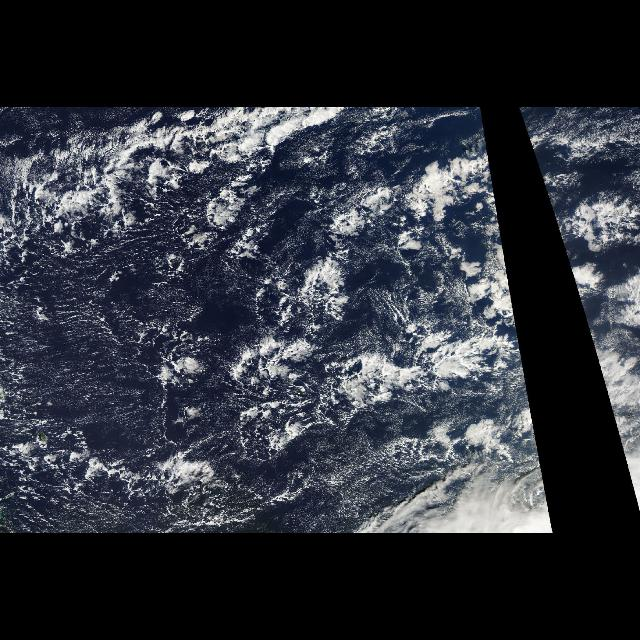Fish: (250, 266, 534, 467), (13, 107, 351, 220), (3, 428, 241, 508)
Gravel: (13, 245, 299, 533), (0, 114, 264, 226)
Sugar: (3, 228, 230, 534)
